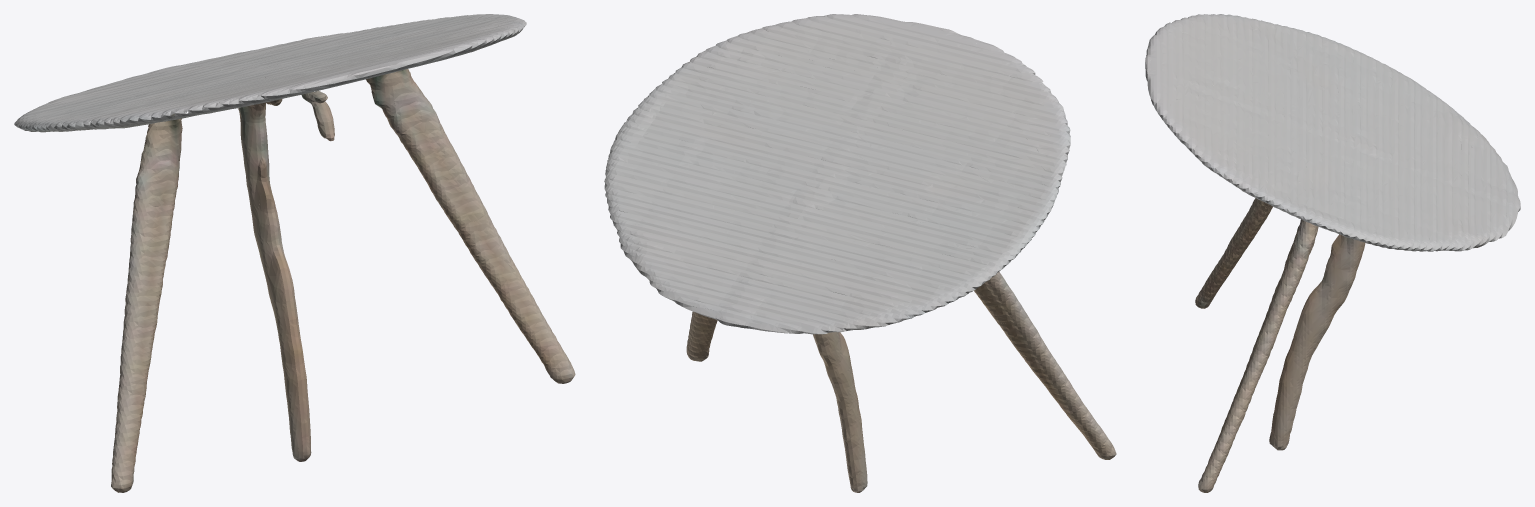
Rendered from round-meeting-table.glb.
The picture shows the model from 3 angles, left to right: view 1: azimuth 30°, elevation 25°; view 2: azimuth 150°, elevation 25°; view 3: azimuth 270°, elevation 25°; orthographic projection. The views are drawn at different scales.
Parts seen in each view (by area): view 1: world; view 2: world; view 3: world.
Part boxes in pixels (left/top/right/bottom): world: left=14, top=14, right=575, bottom=492; world: left=604, top=14, right=1116, bottom=492; world: left=1145, top=14, right=1520, bottom=492.
Size of the model in its own units: 0.9809 by 0.9096 by 0.8077.
